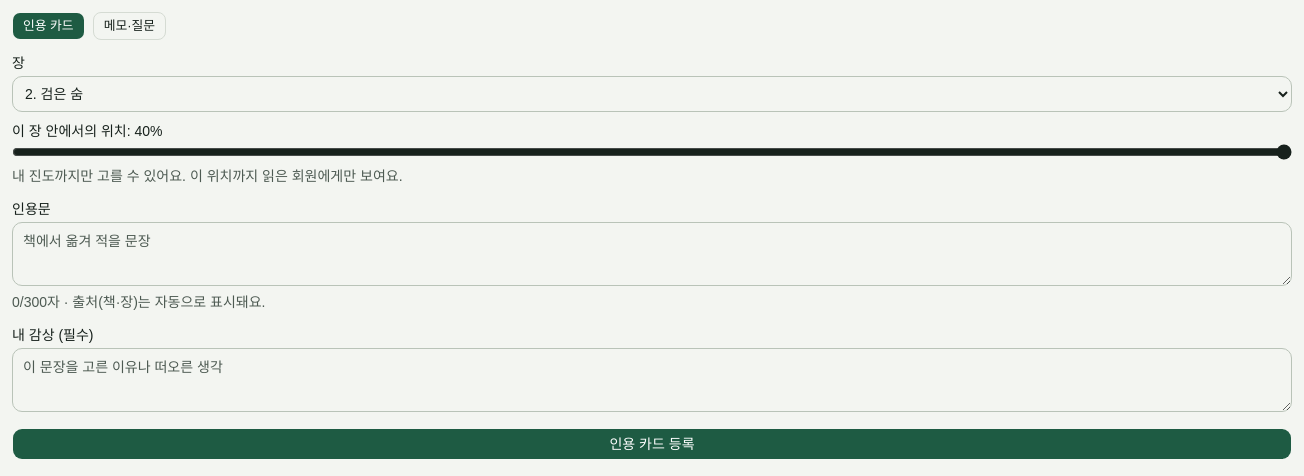
Test: 글 남기기 › 메모·질문으로 바꾸면 인용문 칸이 사라지고 종류를 고른다
The width and height of the screenshot is (1304, 476).
Step 1. Click the tab "메모·질문" → (129, 26), box [93, 12, 166, 40]
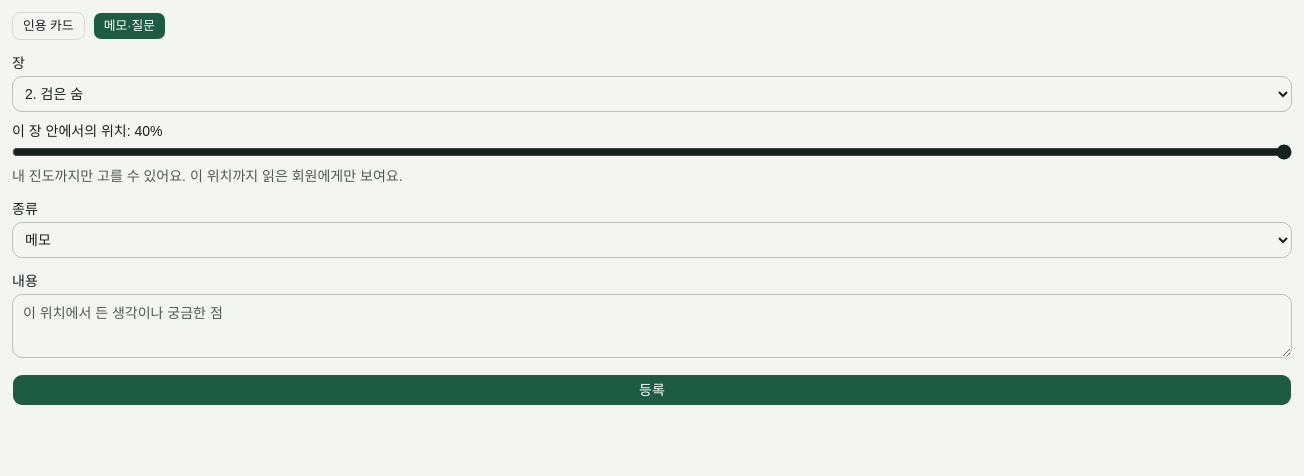
Result: the label labelled "인용문" is gone
